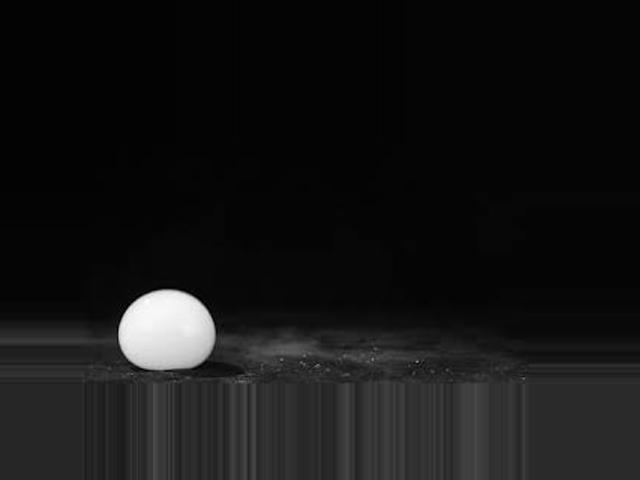egg: (118, 289, 216, 368)
